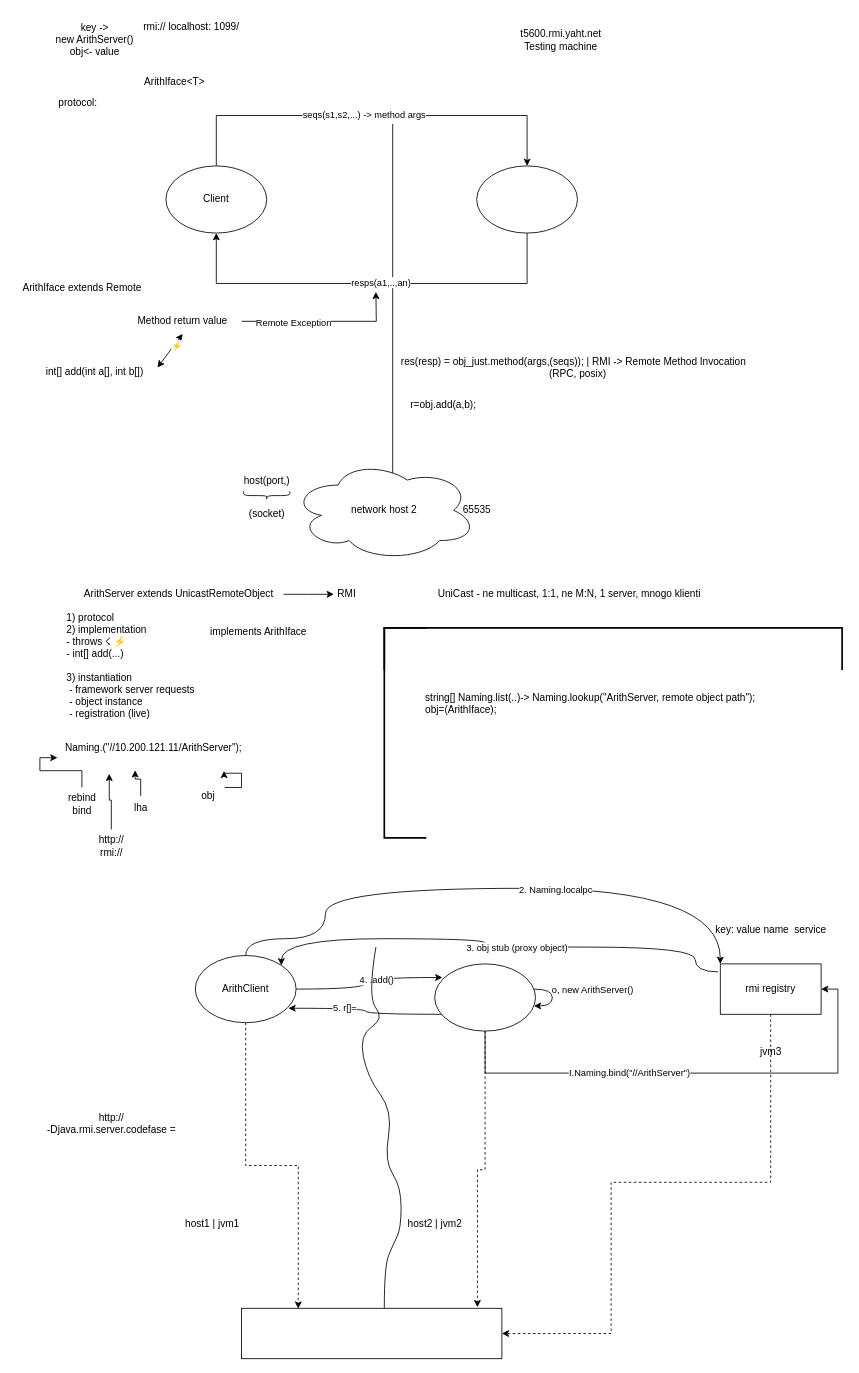
Some shapes in this 859 by 1373 pixel diagram are drawn without their labels. Each missing label, with the box of its shape:
ArithServer: (434, 963, 536, 1031)
Server: (476, 165, 578, 233)
